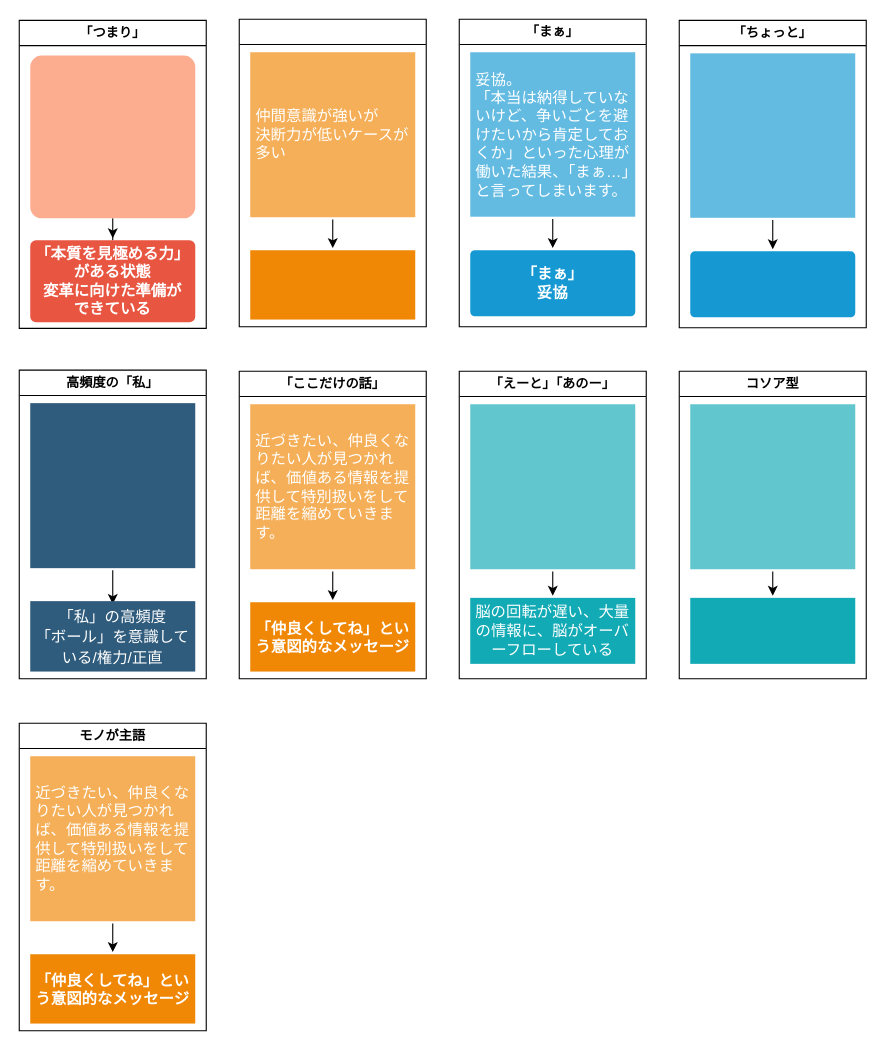
This 886x1051 diagram has some shape labels left out. The shapes that lost their labels are listed below. From the top down, each one's box as (x1, y1, x2, y2) in pixels, then its label:
(30, 55, 195, 218): つまりが口癖の人の性格の１つは、「理論的な人」という事です。 話が一度に詰まってしまい進みそうにもなくなった時に一度話を切り直してくれる作用があります。
(690, 53, 855, 217): 「ちょっと」を付けるとクッションの役目をして、棘のないやんわりとした表現にすることができ、 > 本音をはぐらかすことができます。
(238, 18, 426, 327): 「我々」
(250, 250, 415, 319): 「我々」 仲間意識が強い
(690, 251, 855, 317): 「重く受け止めるな」 というメッセージ
(30, 403, 195, 568): 「私」を多く言う人は - 会話のボールを意識する人 - 権力者 - 正直者 これらの要素を自由要旨する
(470, 404, 635, 569): 有声休止には考えをまとめる補助的役割がある
(690, 404, 855, 569): 名前の検索と，適切な表現の検討に二分される。 （中略）名前の検索とは簡単に言うと，モノ自体はわかっているが，モノの名前が思い出せないと言う場合の心的操作である。
(690, 597, 855, 663): 名前を思い出せない
